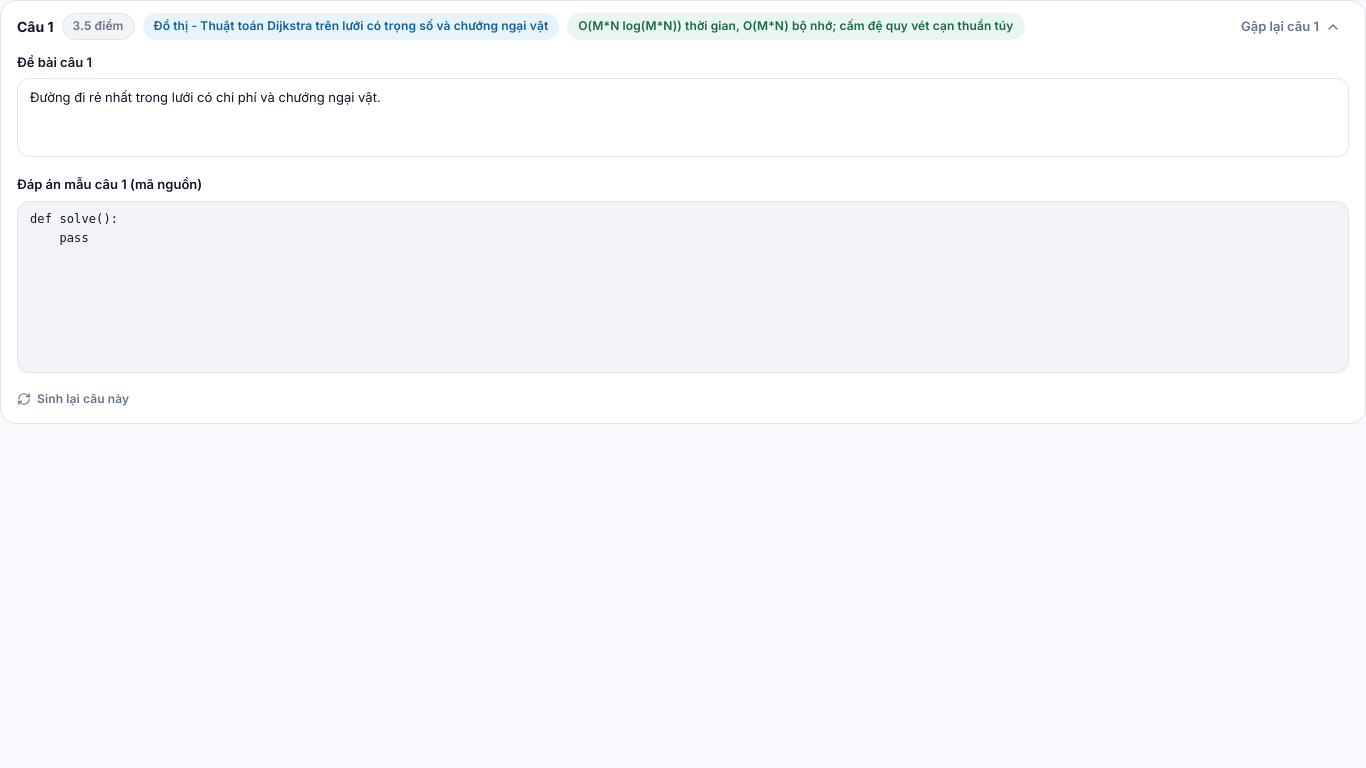
Test: QuestionCard — sinh lại câu KHÔNG bị gắn cờ trùng bài kinh điển › bấm nút thì mở form, khoá nút gửi tới khi có ghi chú — cùng luật với câu bị gắn cờ
The width and height of the screenshot is (1366, 768).
Click the button "Sinh lại câu này" at (73, 399), box top-left (17, 390), bottom-right (129, 407)
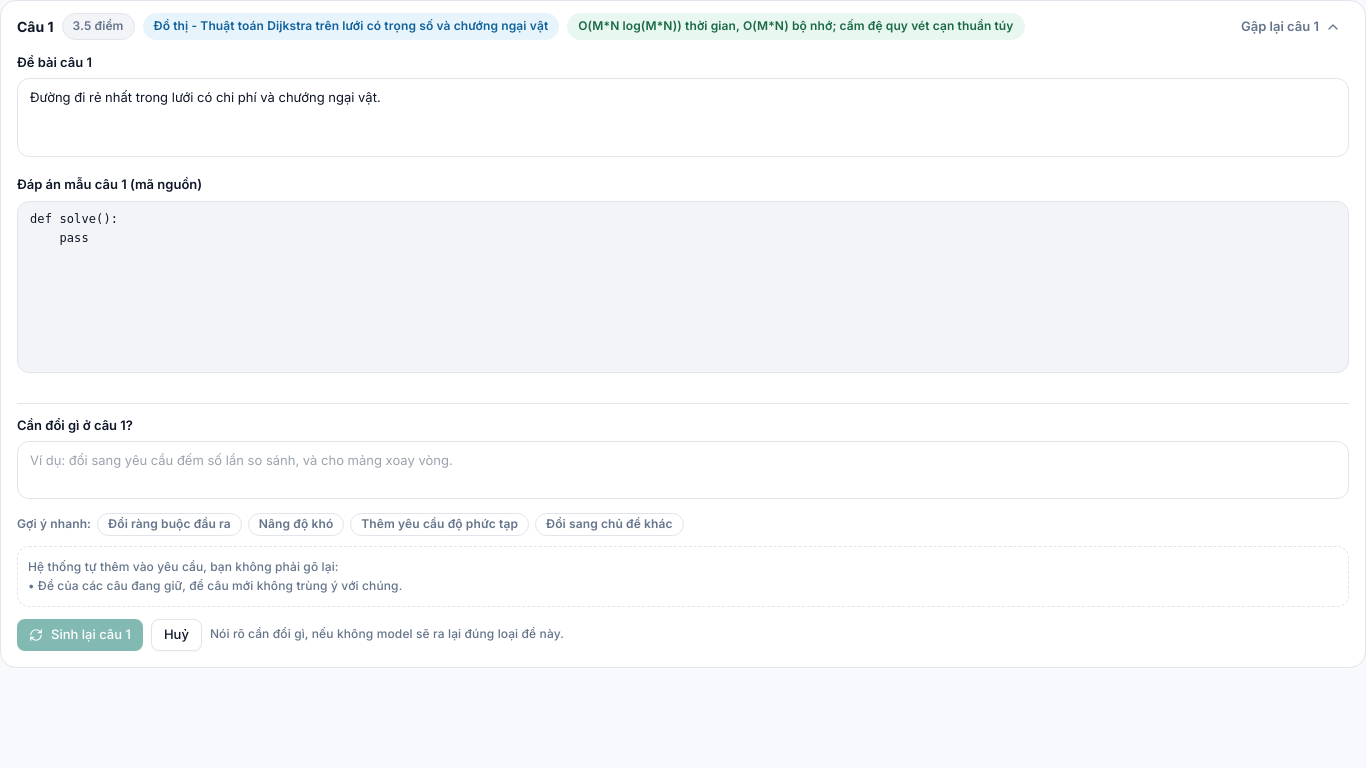
Check: the button "Sinh lại câu 1" is disabled, box top-left (17, 619), bottom-right (143, 651)
Replace the text in the text box labelled "Cần đổi gì ở câu 1?" with "Nâng độ khó, thêm ca test biên" at (683, 470), box top-left (17, 441), bottom-right (1349, 499)
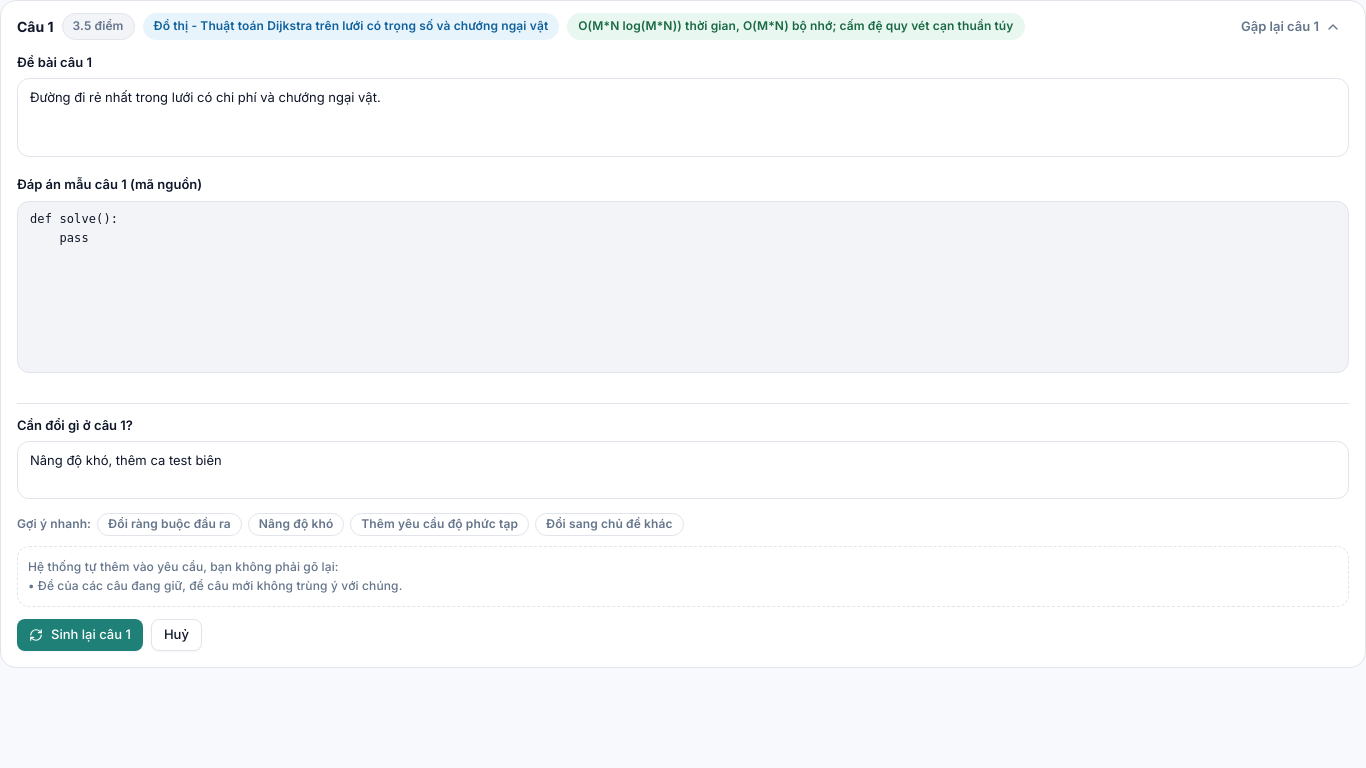
Check: the button "Sinh lại câu 1" is enabled, box top-left (17, 619), bottom-right (143, 651)
